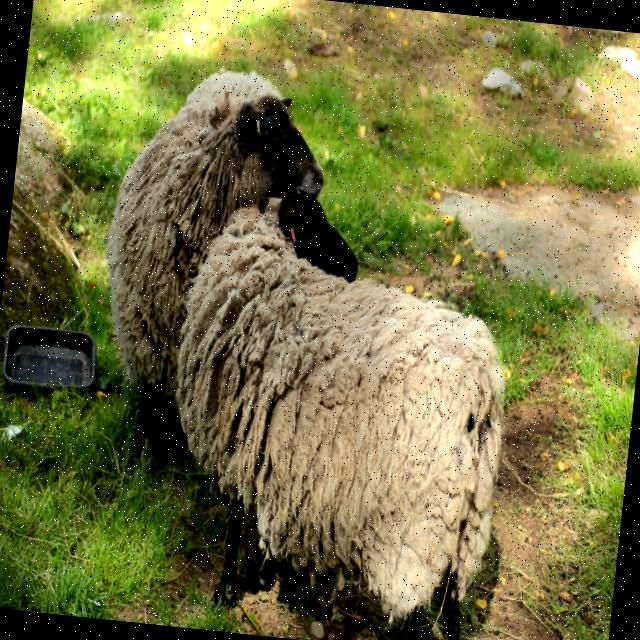sheep: (175, 194, 506, 640), (105, 65, 323, 433)
